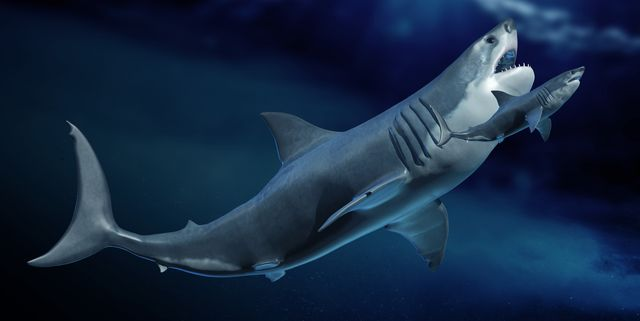shark: (27, 6, 551, 286), (427, 61, 592, 153)
